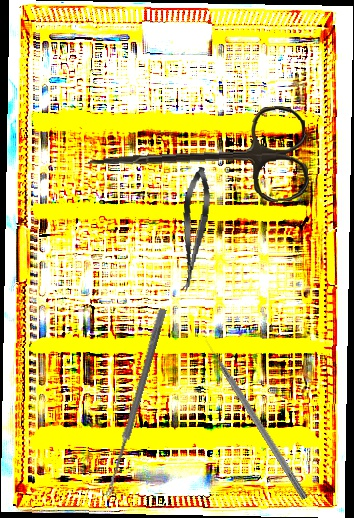Hook Surgical: (203, 336, 310, 501)
Iris Scissors: (84, 104, 311, 215)
Micro Scissor: (173, 165, 215, 294)
Surgical Spoon: (104, 307, 167, 498)
